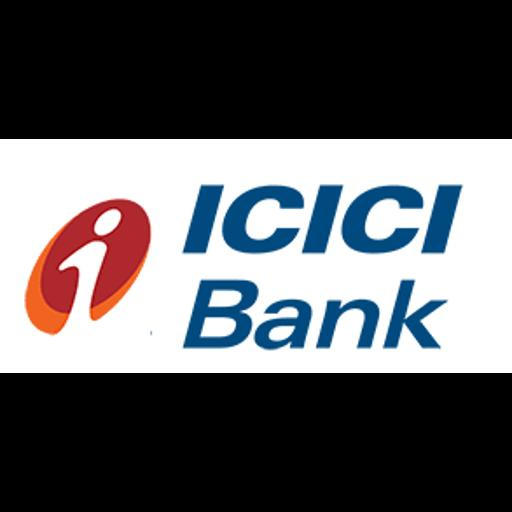ICICI Bank Limited: (0, 139, 512, 373)
